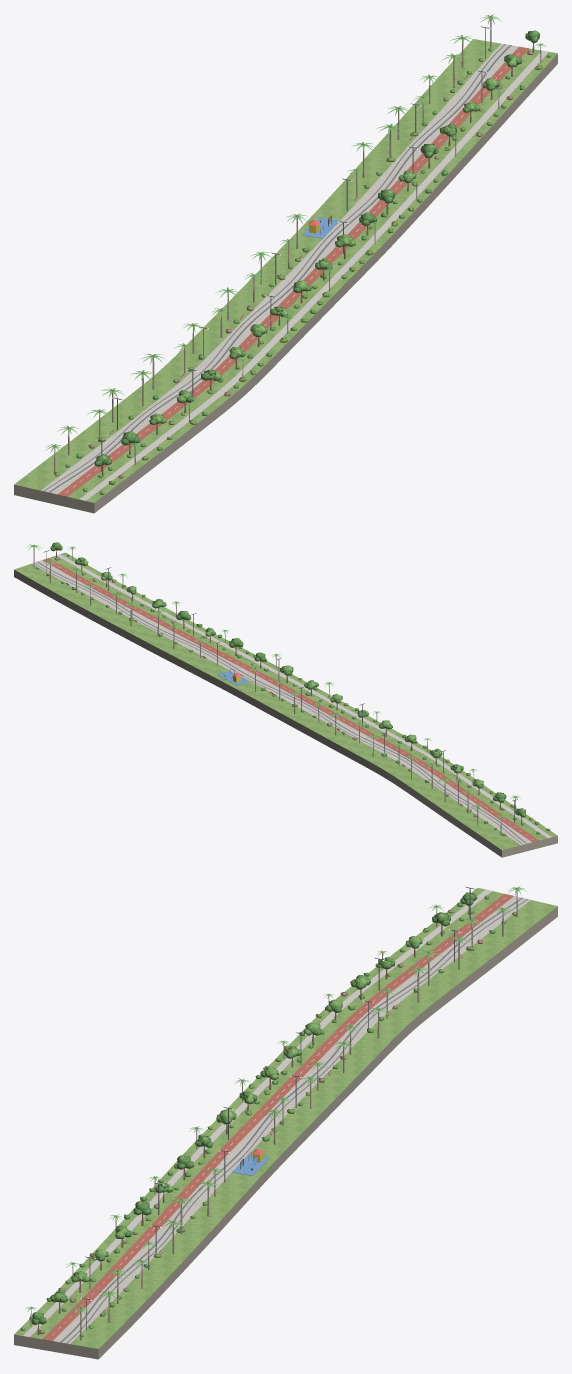
The model's file is parque_11.glb.
3 views of the same model, one above another, from view 1: azimuth 90°, elevation 25°; view 2: azimuth 150°, elevation 25°; view 3: azimuth 270°, elevation 25° (orthographic). The views are drawn at different scales.
Parts seen in each view (by area): view 1: parque_11; view 2: parque_11; view 3: parque_11.
Boxes of the visible parts, <box> form: parque_11: <box>14,26,557,513</box>; parque_11: <box>14,550,557,857</box>; parque_11: <box>14,886,557,1359</box>.
Size of the model in its own units: 288 by 13.37 by 143.
Materials: 25 (12 with a texture image).
